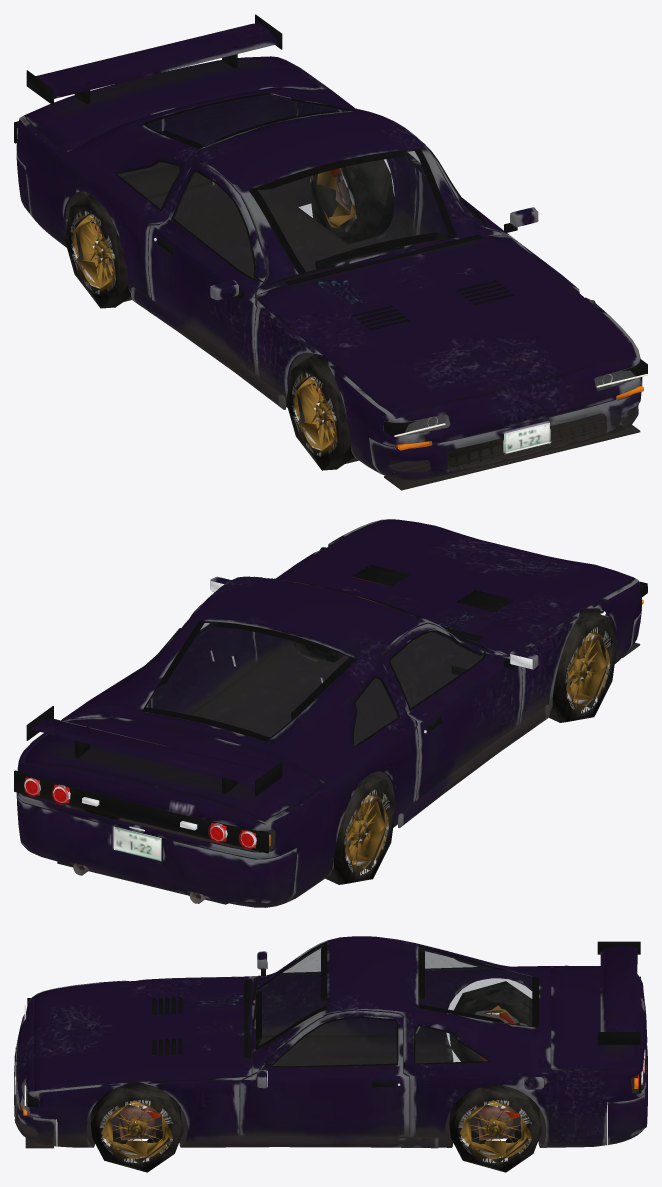
The model's file is hayate_lod1.glb.
The picture shows the model from 3 angles, top to bottom: view 1: azimuth 30°, elevation 25°; view 2: azimuth 150°, elevation 25°; view 3: azimuth 270°, elevation 25°; orthographic projection. The views are drawn at different scales.
Visible parts, largest first — view 1: Body, Wheel_RL, Wheel_FR, Wheel_RR; view 2: Body, Wheel_FR, Wheel_RR; view 3: Body, Wheel_FL, Wheel_RL, Wheel_RR.
Part boxes in pixels (x1=…): Body: x1=14, y1=14, x2=647, y2=490; Wheel_RL: x1=308, y1=159, x2=394, y2=243; Wheel_FR: x1=286, y1=354, x2=358, y2=470; Wheel_RR: x1=65, y1=194, x2=131, y2=308; Body: x1=14, y1=519, x2=647, y2=907; Wheel_FR: x1=549, y1=612, x2=617, y2=722; Wheel_RR: x1=325, y1=774, x2=396, y2=884; Body: x1=14, y1=936, x2=647, y2=1148; Wheel_FL: x1=90, y1=1083, x2=183, y2=1172; Wheel_RL: x1=449, y1=1085, x2=542, y2=1172; Wheel_RR: x1=449, y1=981, x2=537, y2=1061.
Size of what is drawn, in the model's own units: 2.12 by 1.19 by 4.42.
Materials: 2 (2 with a texture image).
